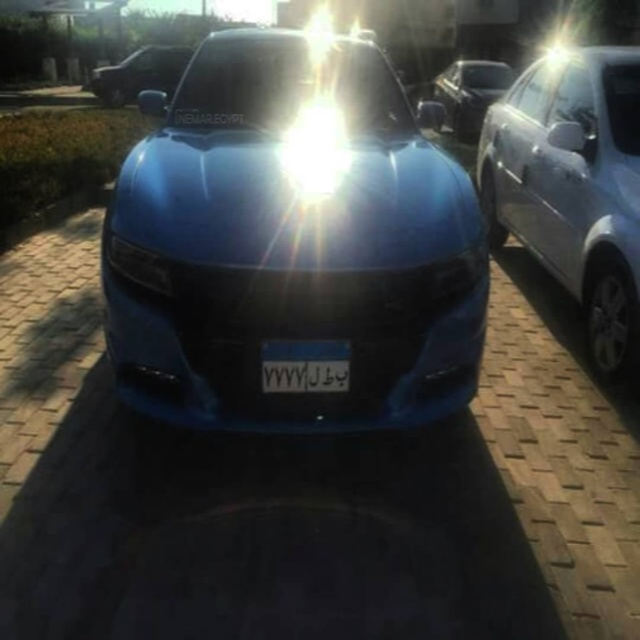License Plate: (257, 333, 353, 395)
